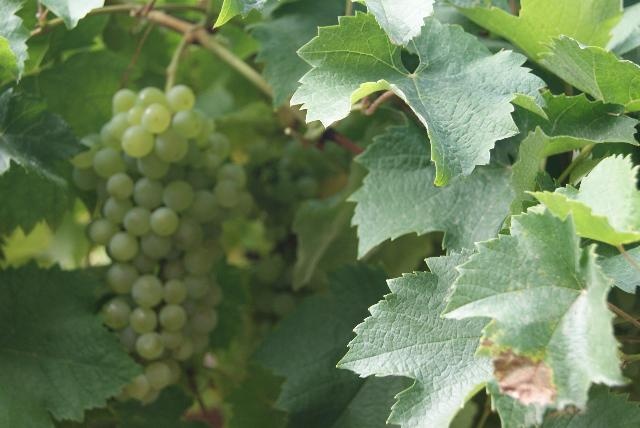grapes: (72, 85, 250, 404)
